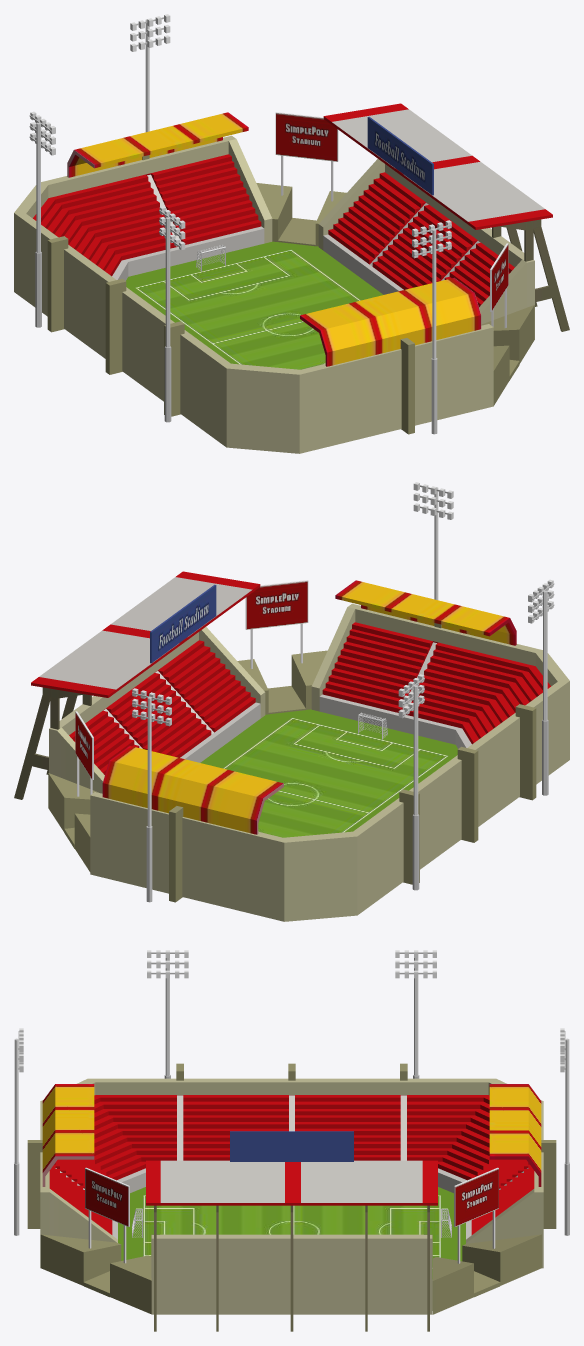
The model's file is Building_Stadium.glb.
3 views of the same model, one above another, from view 1: azimuth 30°, elevation 25°; view 2: azimuth 150°, elevation 25°; view 3: azimuth 270°, elevation 25° (orthographic). The views are drawn at different scales.
Parts seen in each view (by area): view 1: Building_Stadium; view 2: Building_Stadium; view 3: Building_Stadium.
Boxes of the visible parts, x1,y1,x2,y2 form: Building_Stadium: (14, 14, 569, 453); Building_Stadium: (14, 482, 569, 921); Building_Stadium: (14, 950, 569, 1331).
Size of the model in its own units: 0.7092 by 0.3519 by 0.8951.
1 material, 1 textured.
